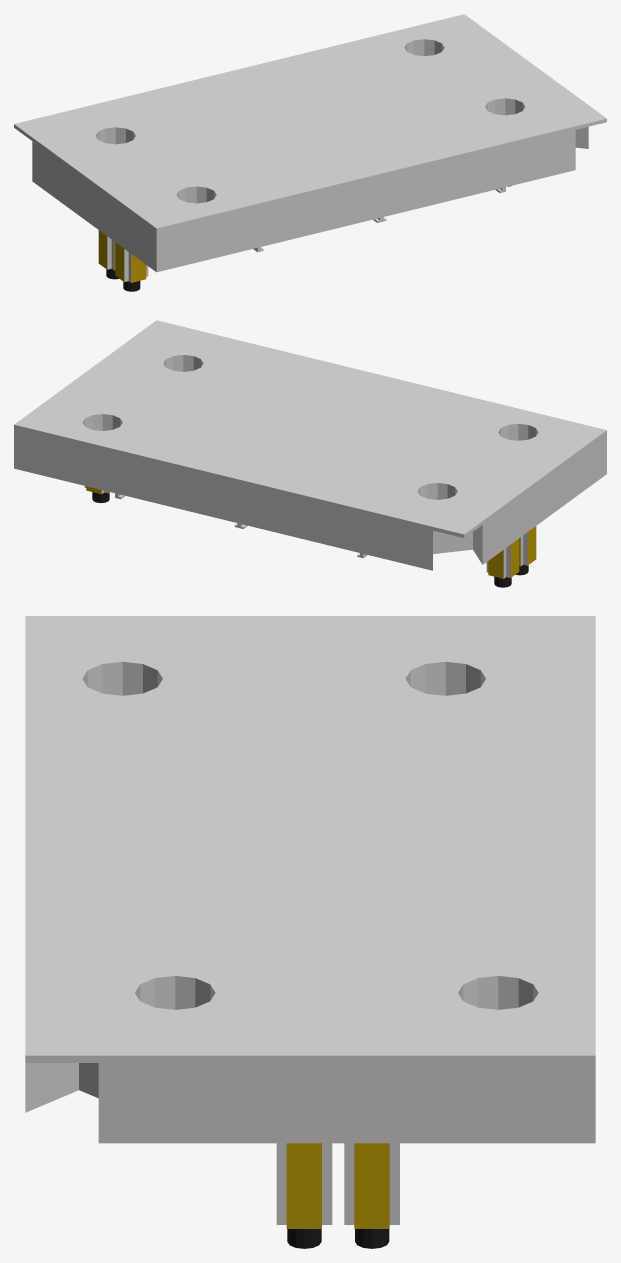
Rendered from raw_base_long.dae.
3 views of the same model, one above another, from view 1: azimuth 30°, elevation 25°; view 2: azimuth 150°, elevation 25°; view 3: azimuth 270°, elevation 25° (orthographic). The views are drawn at different scales.
Visible parts, largest first — view 1: Raw_Base_Long; view 2: Raw_Base_Long; view 3: Raw_Base_Long.
Boxes of the visible parts, x1,y1,x2,y2 form: Raw_Base_Long: (14, 14, 606, 291); Raw_Base_Long: (14, 320, 606, 587); Raw_Base_Long: (25, 616, 595, 1248).
Bounding box in the file's own units: 1.03 × 0.565 × 0.2365.
